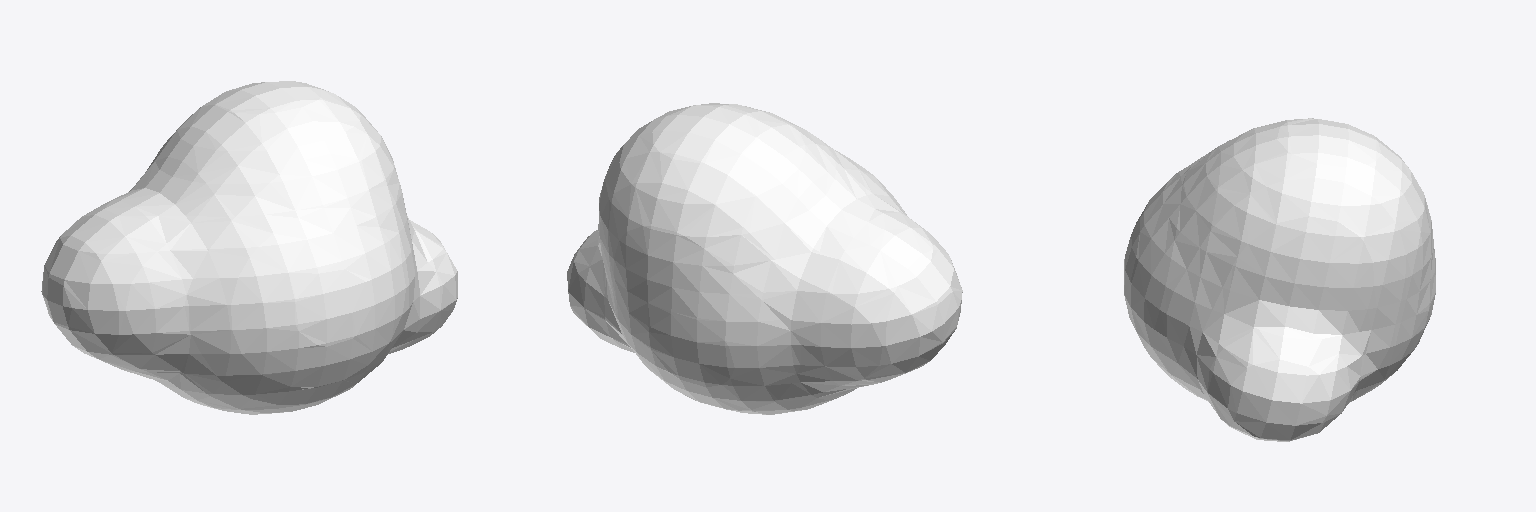
File: cloud.obj
3 views of the same model, side by side, from view 1: azimuth 30°, elevation 25°; view 2: azimuth 150°, elevation 25°; view 3: azimuth 270°, elevation 25° (orthographic).
Parts seen in each view (by area): view 1: cloud2; view 2: cloud2; view 3: cloud2.
Boxes of the visible parts, x1=… form: cloud2: x1=41, y1=81, x2=457, y2=414; cloud2: x1=567, y1=103, x2=962, y2=414; cloud2: x1=1124, y1=118, x2=1435, y2=441.
Bounding box in the file's own units: 0.2478 × 0.1755 × 0.1744.